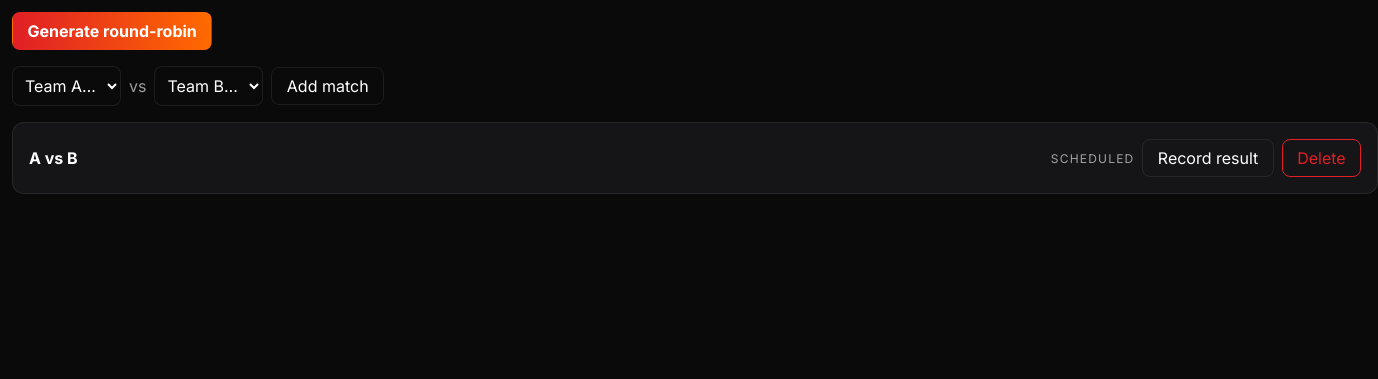
MatchesManager › opens the result form for a match
Check: the text "A vs B" is shown, box [29,148,78,168]
Step 1. Click the button "Record result" → [1208, 158], box [1142,139,1274,177]
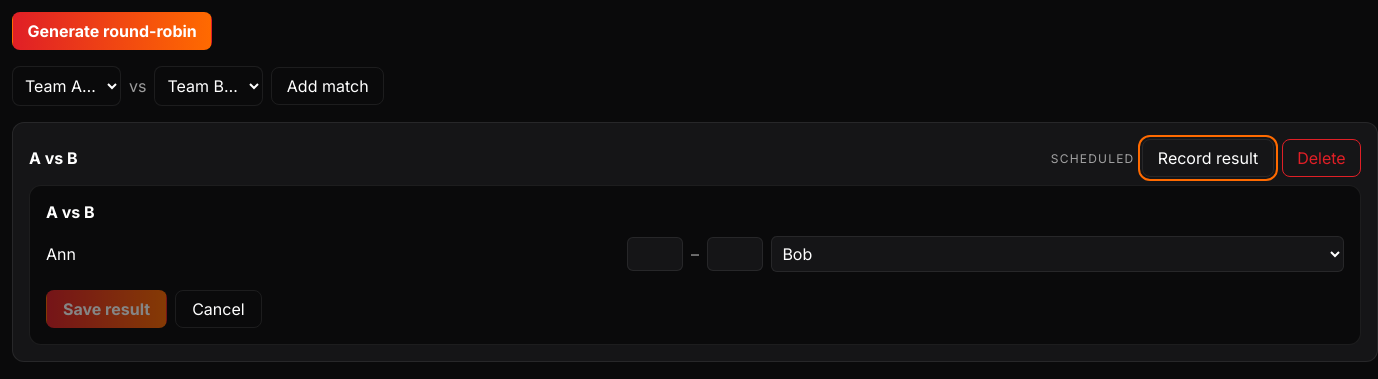
Check: the button "Save result" is shown, box [46,290,167,328]
